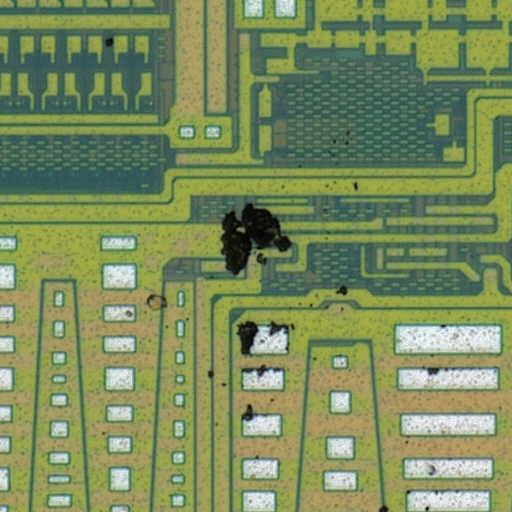PO CONTAMINATION: (99, 33, 470, 512)
